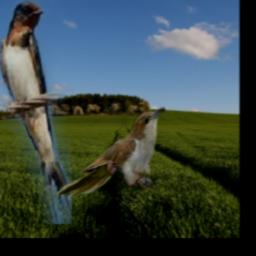Cuckoo: (55, 107, 165, 198)
Swallow: (0, 1, 72, 225)
